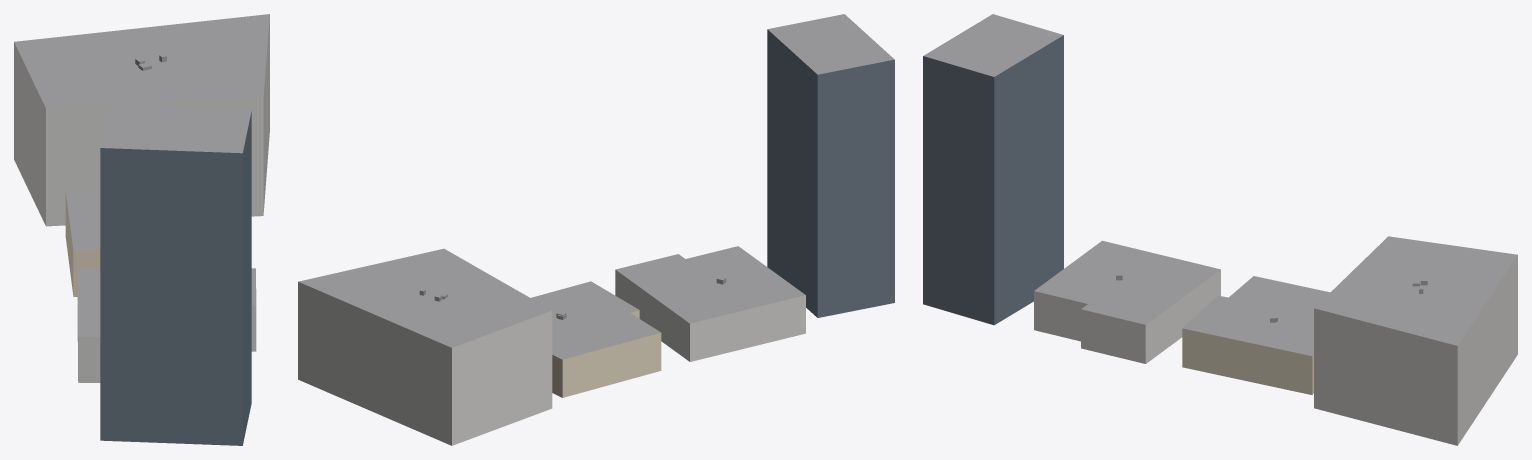
The model's file is building_3_6.glb.
3 renders of one model, left to right at view 1: azimuth 30°, elevation 25°; view 2: azimuth 150°, elevation 25°; view 3: azimuth 270°, elevation 25°, orthographic. The views are drawn at different scales.
Parts seen in each view (by area): view 1: glass_dark, roof, concrete_light, sandstone; view 2: concrete_light, glass_dark, roof, sandstone; view 3: glass_dark, roof, concrete_light, sandstone.
Part boxes in pixels (left/top/right/bottom): glass_dark: left=100, top=111, right=251, bottom=445; roof: left=14, top=14, right=269, bottom=336; concrete_light: left=14, top=15, right=269, bottom=382; sandstone: left=65, top=192, right=100, bottom=296; concrete_light: left=298, top=270, right=805, bottom=445; glass_dark: left=767, top=29, right=894, bottom=317; roof: left=299, top=14, right=894, bottom=359; sandstone: left=552, top=310, right=661, bottom=397; glass_dark: left=923, top=35, right=1063, bottom=325; roof: left=923, top=14, right=1517, bottom=355; concrete_light: left=1034, top=255, right=1517, bottom=445; sandstone: left=1182, top=328, right=1313, bottom=394.
Bounding box in the file's own units: 143 × 90 × 195.
